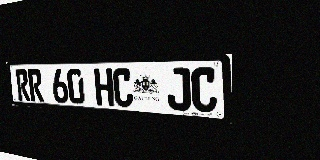0: (66, 69, 85, 104)
6: (51, 69, 69, 103)
C: (191, 67, 217, 113), (112, 68, 133, 108)
H: (94, 69, 114, 106)
J: (166, 68, 191, 112)
R: (27, 69, 44, 102), (15, 70, 31, 101)
